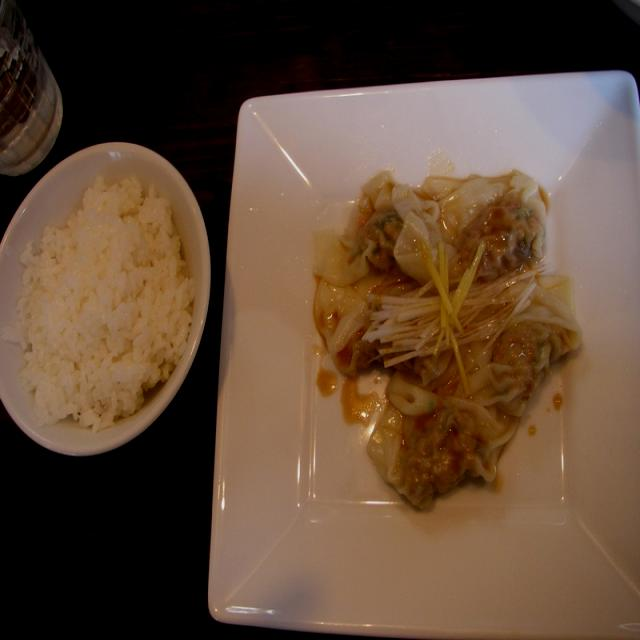rice: (27, 184, 165, 419)
